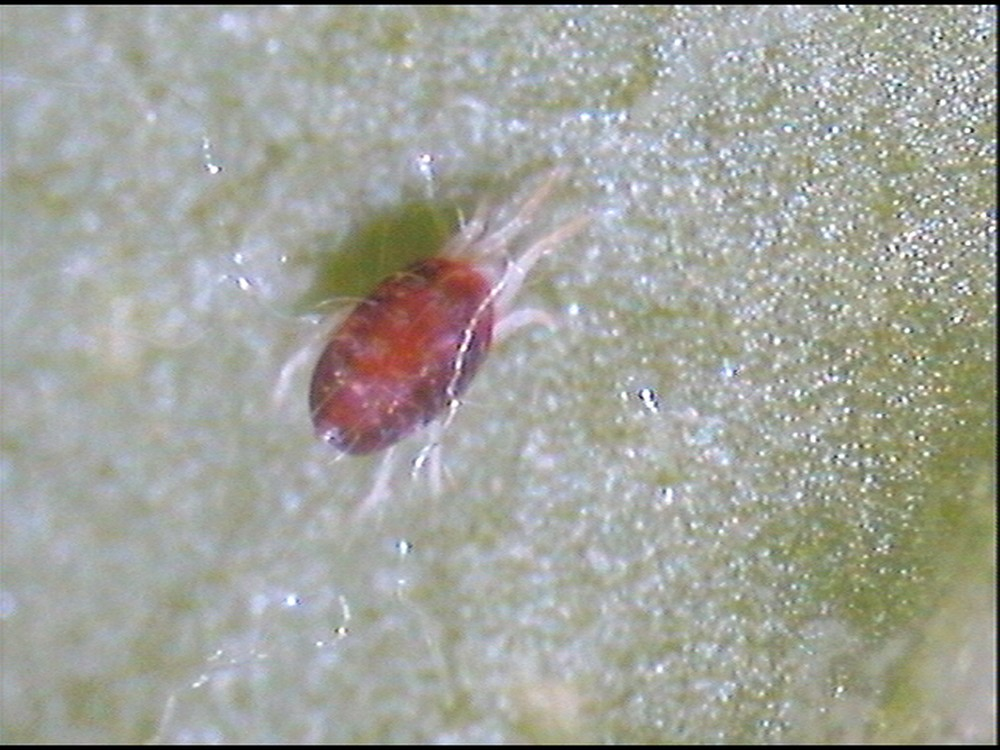Aracnido Rojo: (266, 164, 594, 512)
